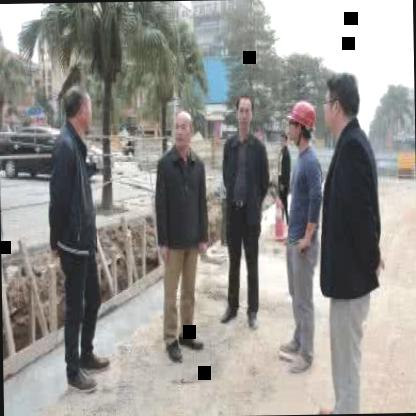helmet: (286, 99, 316, 146)
